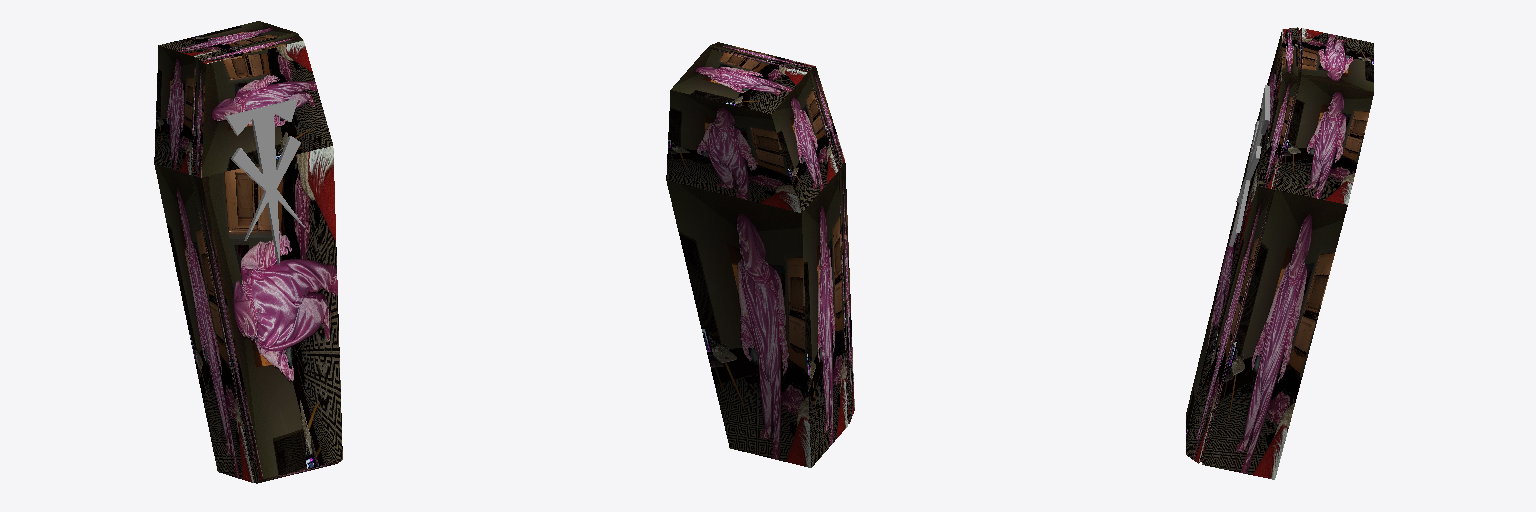
The picture shows the model from 3 angles: view 1: azimuth 30°, elevation 25°; view 2: azimuth 150°, elevation 25°; view 3: azimuth 270°, elevation 25°; orthographic projection.
Visible parts, largest first — view 1: coffin_Cube.002_Material.003, symbol_Cube.001; view 2: coffin_Cube.002_Material.003; view 3: coffin_Cube.002_Material.003, symbol_Cube.001.
Boxes of the visible parts, x1,y1,x2,y2 form: coffin_Cube.002_Material.003: [154, 21, 342, 483]; symbol_Cube.001: [225, 99, 304, 265]; coffin_Cube.002_Material.003: [666, 42, 854, 467]; coffin_Cube.002_Material.003: [1186, 27, 1373, 479]; symbol_Cube.001: [1229, 85, 1269, 246].
Bounding box in the file's own units: 2.69 × 7.75 × 3.25.
Materials: 2 (1 with a texture image).